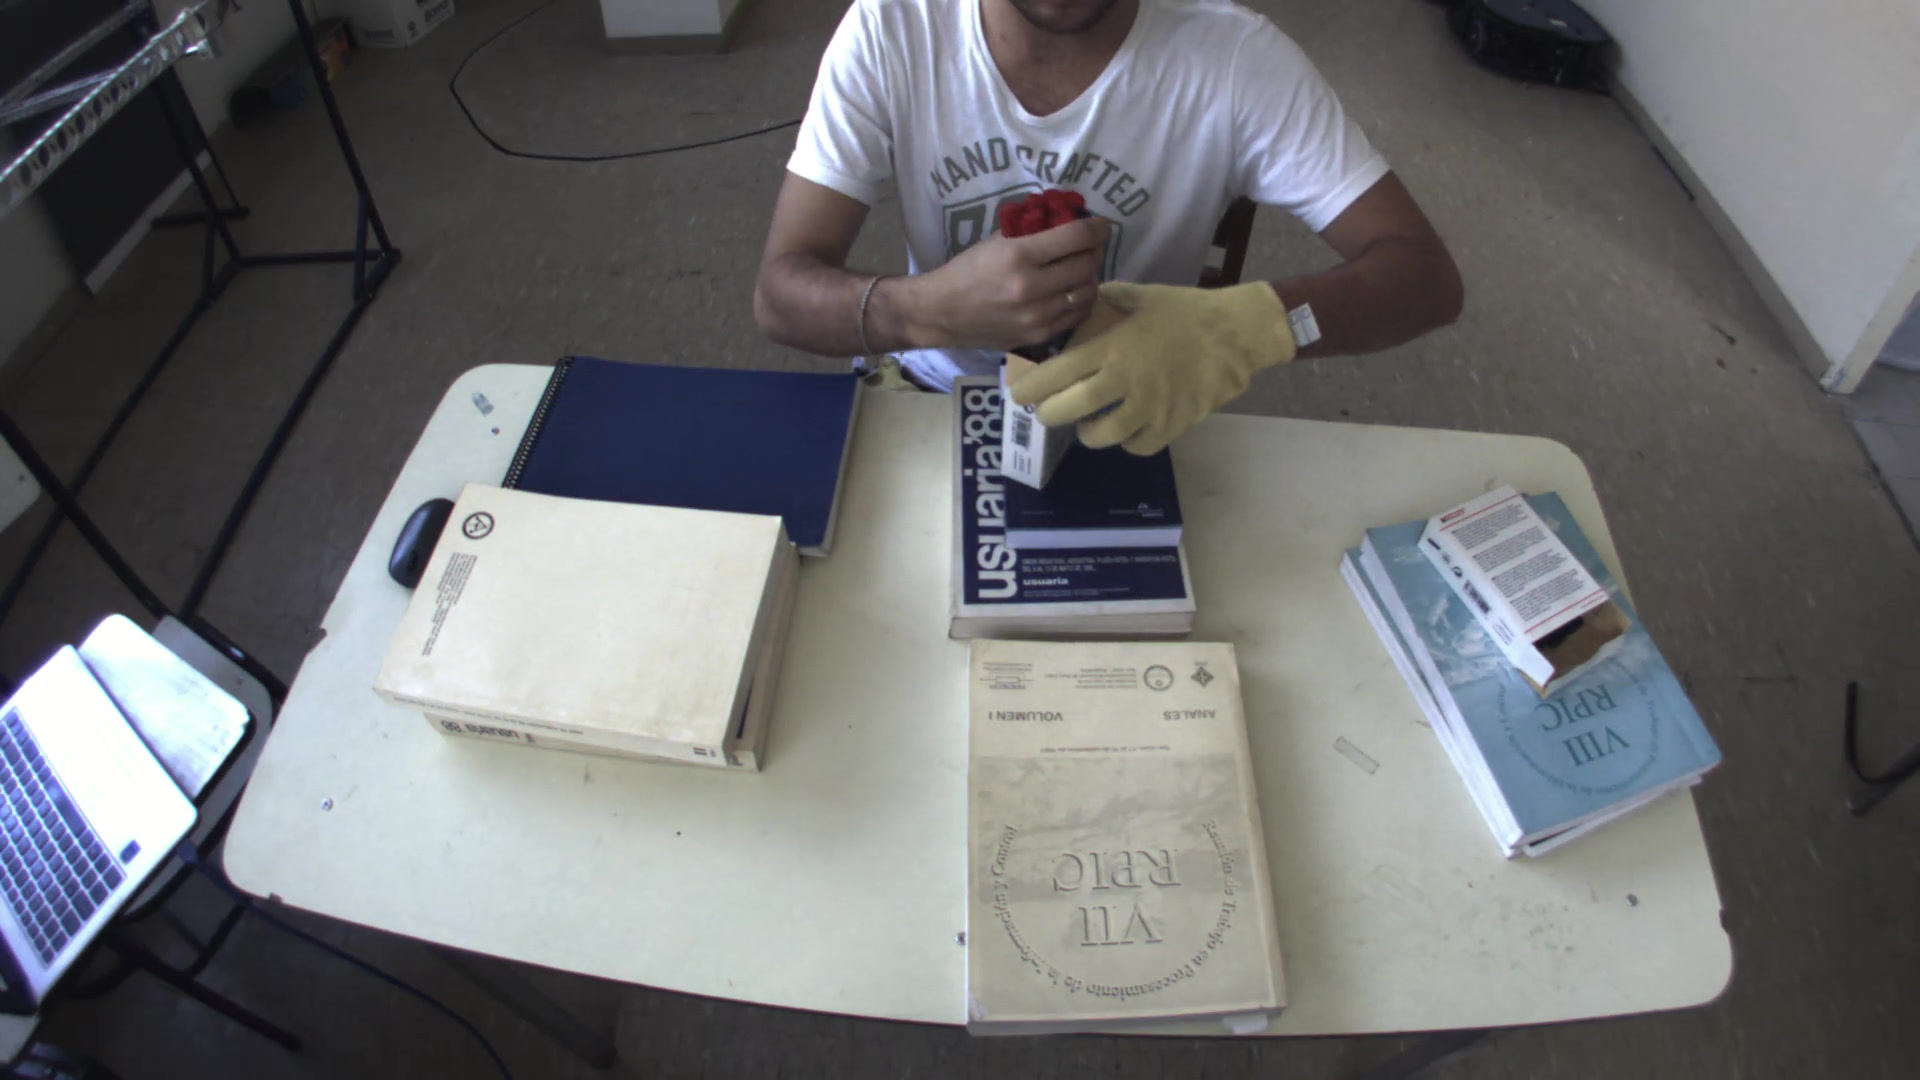hand: (996, 261, 1323, 462), (936, 194, 1116, 351)
